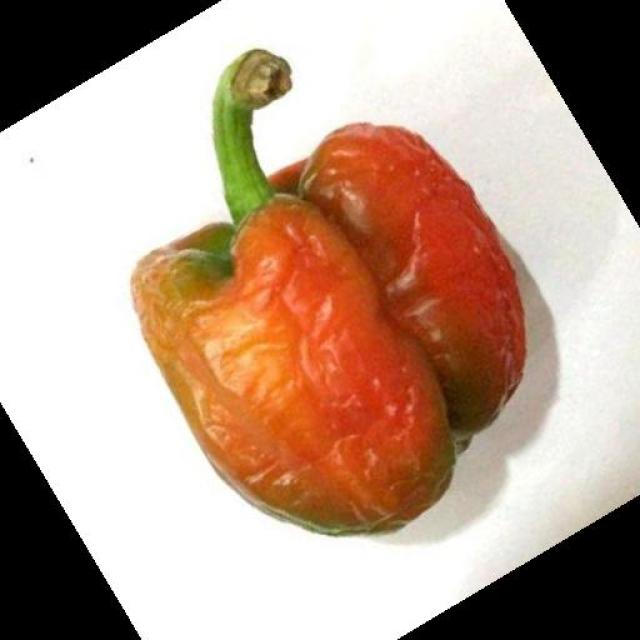Stale_Capsicum: (112, 133, 560, 528)
